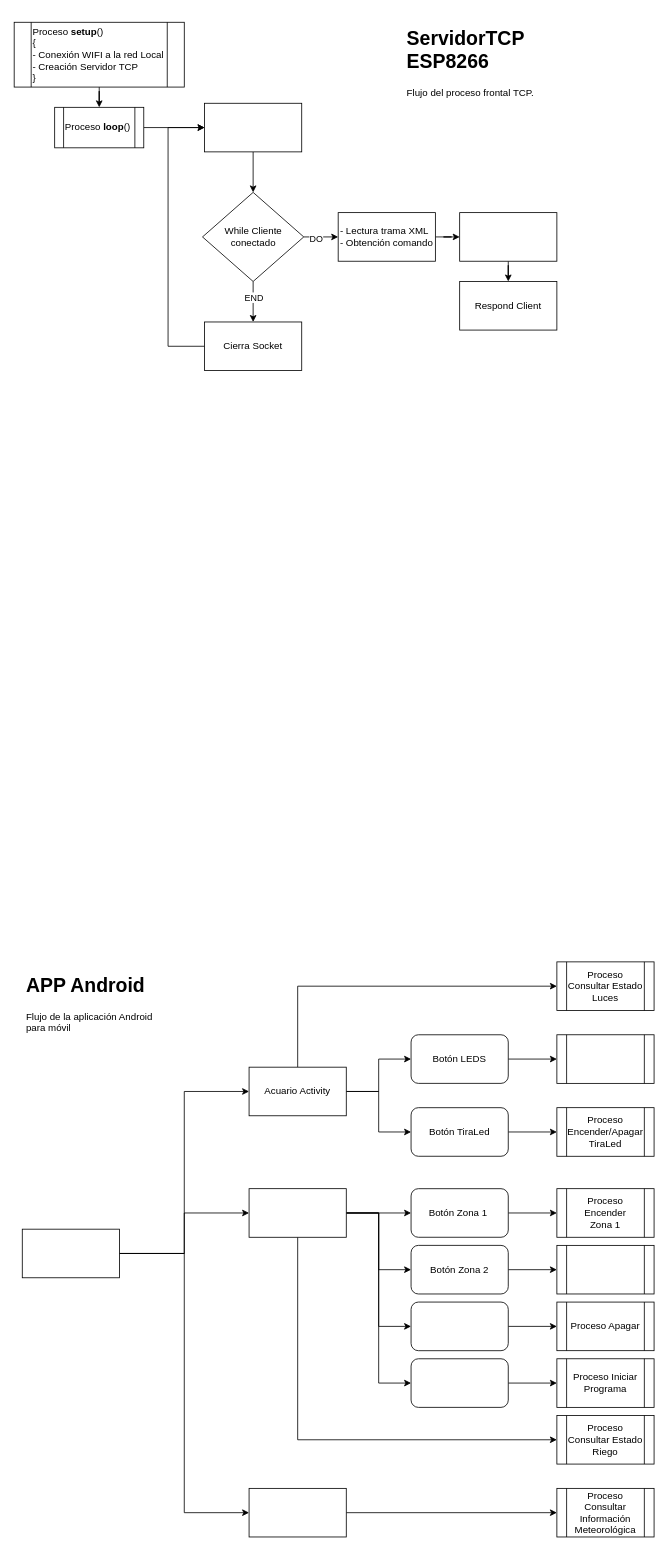
Some shapes in this 668 by 1551 pixel diagram are drawn without their labels. The shapes that lost their labels are listed below. From the top down, each one's box as (x1, y1, x2, y2) in pixels, then its label:
(204, 102, 302, 152): Instanciar Listener
(459, 212, 557, 261): Send Middleware
(556, 1034, 654, 1083): Proceso Encender/Apagar LEDS
(248, 1188, 346, 1237): Riego Activity
(21, 1228, 119, 1278): Main Activity
(556, 1245, 654, 1294): Proceso Encender Zona 2
(410, 1301, 508, 1351): Botón Apagar
(410, 1358, 508, 1407): Botón Iniciar Programa
(248, 1488, 346, 1537): Clima Activity
